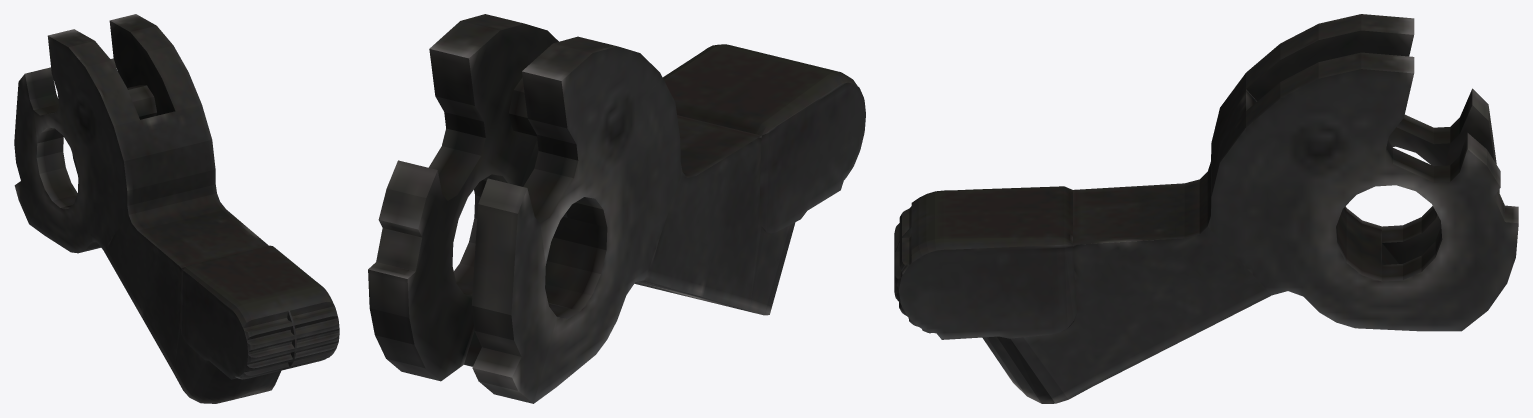
3 views of the same model, side by side, from view 1: azimuth 30°, elevation 25°; view 2: azimuth 150°, elevation 25°; view 3: azimuth 270°, elevation 25° (orthographic). The views are drawn at different scales.
Parts seen in each view (by area): view 1: TW_6193d3be7c6c7b169525f0da_PZ_Import; view 2: TW_6193d3be7c6c7b169525f0da_PZ_Import; view 3: TW_6193d3be7c6c7b169525f0da_PZ_Import.
Part boxes in pixels (x1=…): TW_6193d3be7c6c7b169525f0da_PZ_Import: x1=14, y1=14, x2=339, y2=403; TW_6193d3be7c6c7b169525f0da_PZ_Import: x1=368, y1=14, x2=865, y2=403; TW_6193d3be7c6c7b169525f0da_PZ_Import: x1=894, y1=14, x2=1518, y2=403.
Size of the model in its own units: 0.00511 by 0.0236 by 0.0141.
1 material, 1 textured.
